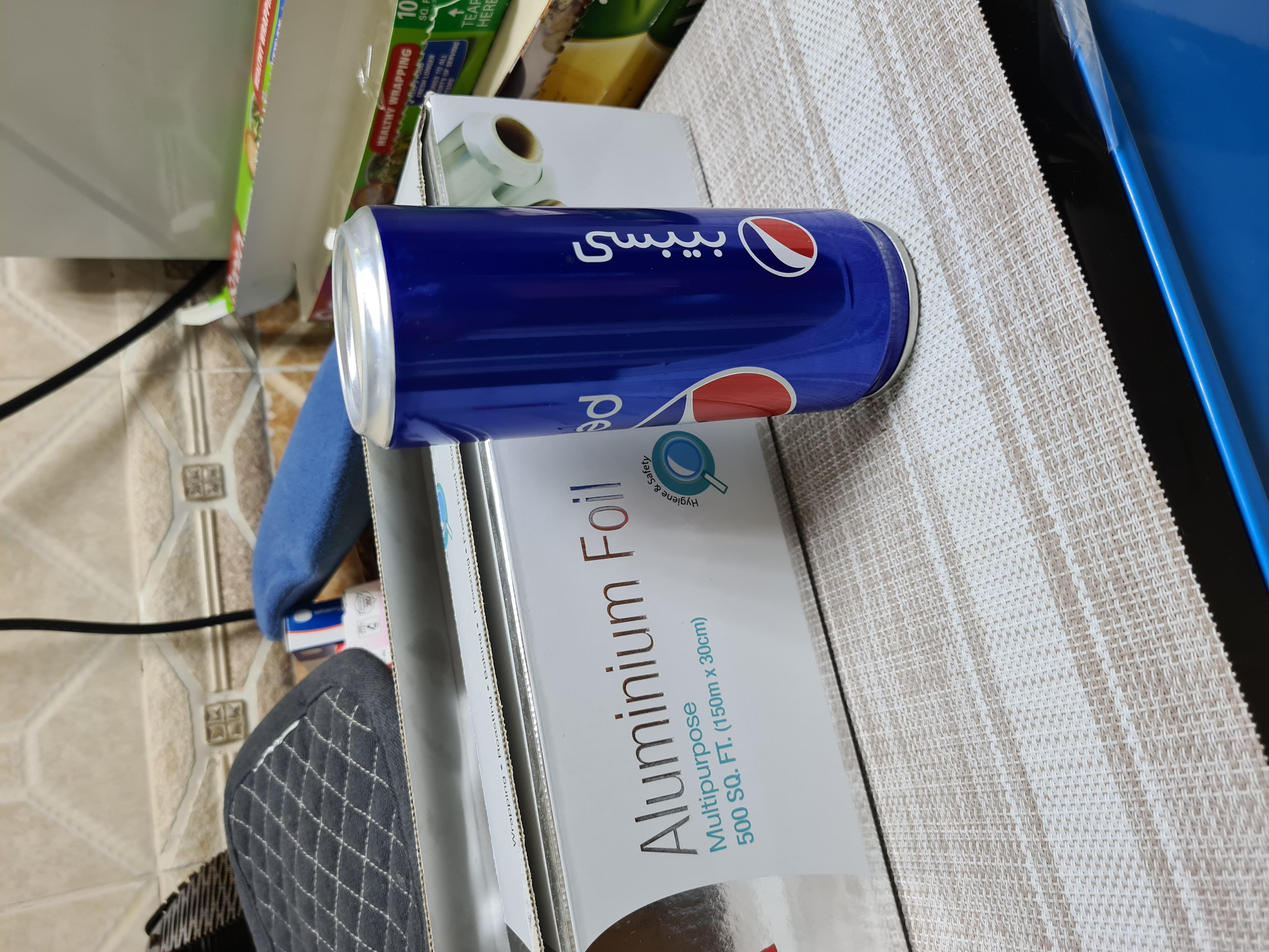debris: (311, 191, 928, 462)
